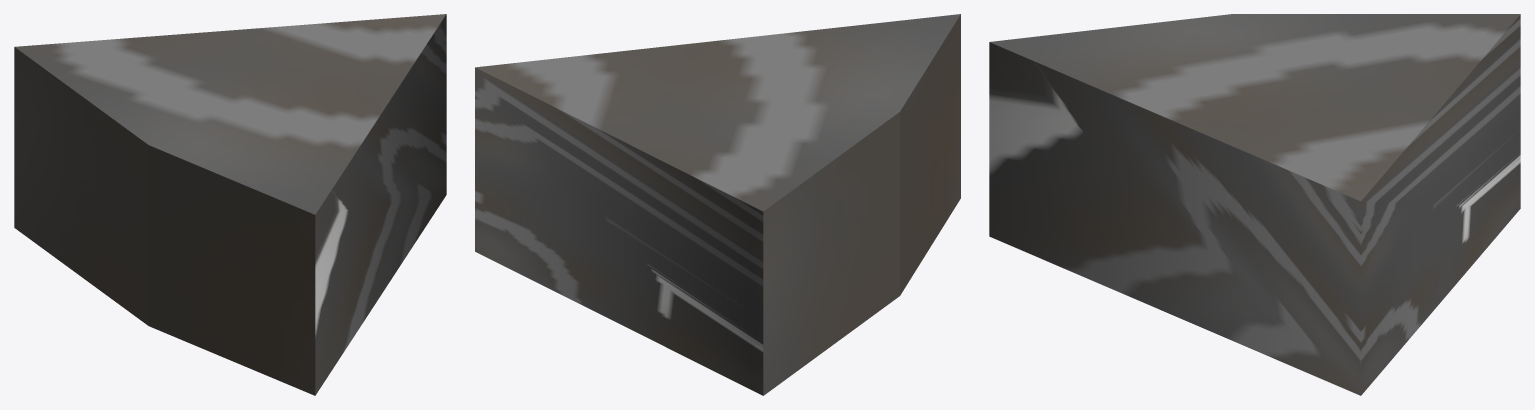
Rendered from ishi_05.fbx.
3 views of the same model, side by side, from view 1: azimuth 30°, elevation 25°; view 2: azimuth 150°, elevation 25°; view 3: azimuth 270°, elevation 25° (orthographic). The views are drawn at different scales.
Parts seen in each view (by area): view 1: ishi_05; view 2: ishi_05; view 3: ishi_05.
Boxes of the visible parts, bbox=[...] form: ishi_05: bbox=[14, 14, 446, 395]; ishi_05: bbox=[475, 14, 960, 395]; ishi_05: bbox=[989, 14, 1520, 395].
Bounding box in the file's own units: 9.63 × 4.66 × 11.54.
1 material, 1 textured.
